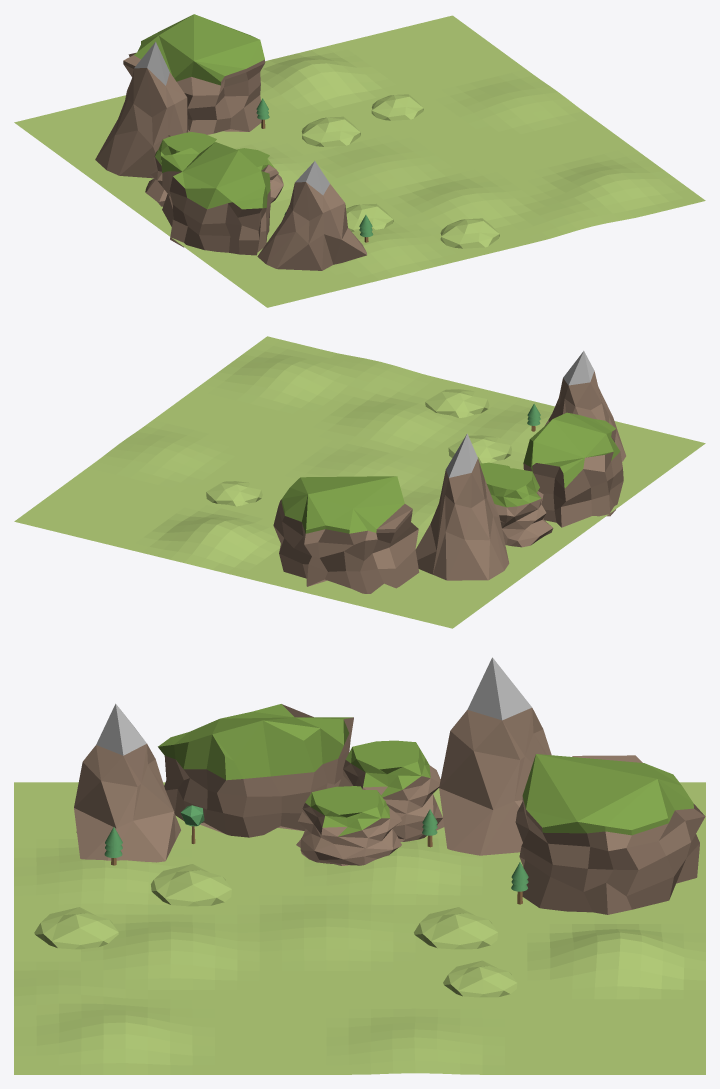
The model's file is BUKIT GABUNGG.fbx.
The picture shows the model from 3 angles, top to bottom: view 1: azimuth 30°, elevation 25°; view 2: azimuth 150°, elevation 25°; view 3: azimuth 270°, elevation 25°; orthographic projection. The views are drawn at different scales.
Parts seen in each view (by area): view 1: Plane.001, Plane, Plane.002, mini gunung, mini gunung.001, gunung 2, Icosphere.002, Icosphere.001, Icosphere.003, Icosphere, gunung 2.001; view 2: Plane.001, Plane.002, Plane, mini gunung, gunung 2, mini gunung.001, Icosphere.002, Icosphere.003, Icosphere; view 3: Plane.001, Plane.002, Plane, mini gunung, mini gunung.001, gunung 2.001, gunung 2, Icosphere.001, Icosphere, Icosphere.002, Icosphere.003.
Part boxes in pixels (bbox=[...]): Plane.001: bbox=[14, 15, 705, 307]; Plane: bbox=[161, 142, 270, 255]; Plane.002: bbox=[123, 14, 265, 134]; mini gunung: bbox=[95, 41, 189, 178]; mini gunung.001: bbox=[257, 161, 366, 270]; gunung 2: bbox=[145, 132, 216, 206]; Icosphere.002: bbox=[440, 218, 499, 248]; Icosphere.001: bbox=[301, 116, 360, 146]; Icosphere.003: bbox=[371, 94, 423, 120]; Icosphere: bbox=[346, 203, 393, 231]; gunung 2.001: bbox=[237, 148, 283, 203]; Plane.001: bbox=[14, 336, 705, 628]; Plane.002: bbox=[273, 476, 419, 593]; Plane: bbox=[523, 412, 623, 527]; mini gunung: bbox=[415, 433, 509, 580]; gunung 2: bbox=[484, 468, 553, 547]; mini gunung.001: bbox=[545, 351, 625, 461]; Icosphere.002: bbox=[425, 389, 489, 417]; Icosphere.003: bbox=[206, 481, 262, 506]; Icosphere: bbox=[448, 435, 511, 463]; Plane.001: bbox=[14, 782, 705, 1074]; Plane.002: bbox=[515, 754, 705, 914]; Plane: bbox=[158, 704, 353, 837]; mini gunung: bbox=[439, 657, 551, 855]; mini gunung.001: bbox=[74, 703, 180, 862]; gunung 2.001: bbox=[296, 786, 401, 865]; gunung 2: bbox=[338, 740, 444, 841]; Icosphere.001: bbox=[414, 907, 497, 949]; Icosphere: bbox=[151, 864, 231, 906]; Icosphere.002: bbox=[34, 907, 118, 949]; Icosphere.003: bbox=[443, 960, 517, 997].
Bounding box in the file's own units: 3933 × 1084 × 3925.
